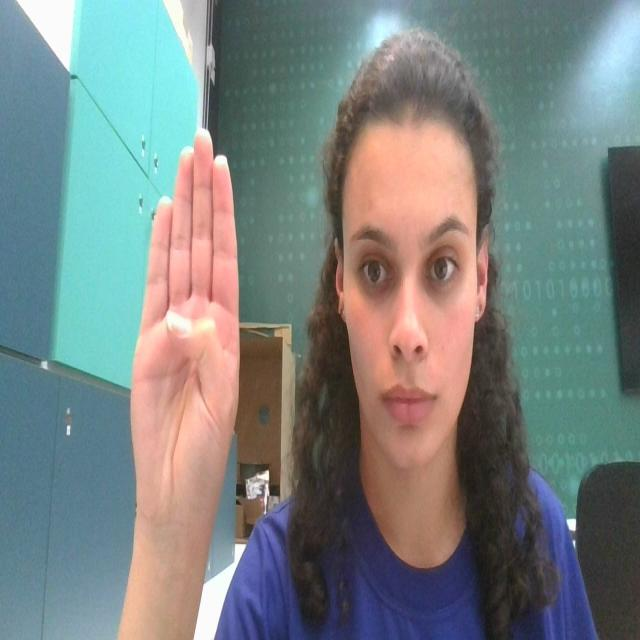B: (119, 129, 250, 520)
